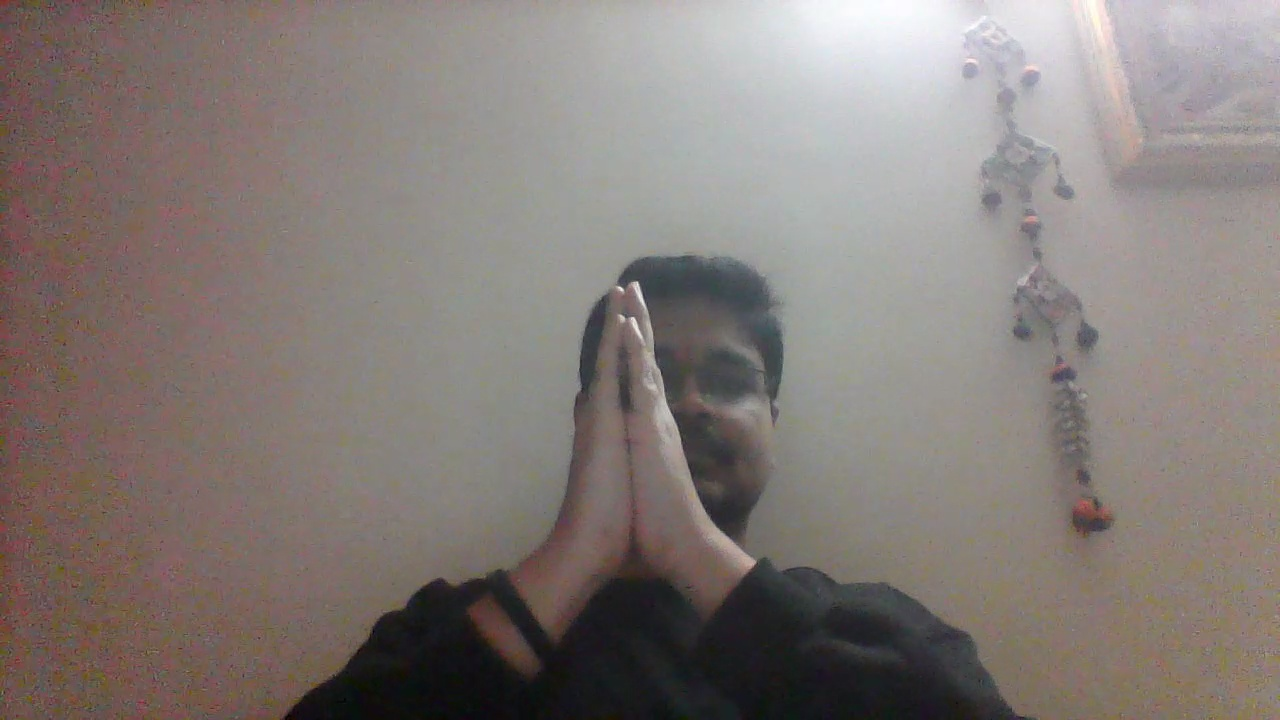Namaste: (562, 277, 743, 577)
